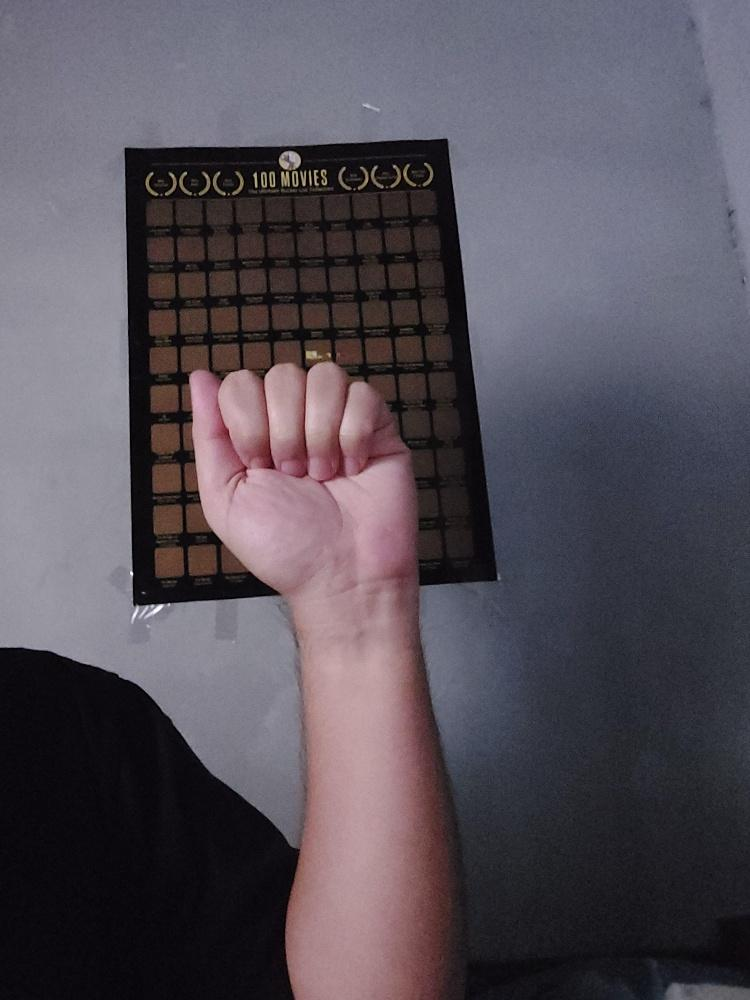a: (186, 355, 420, 587)
